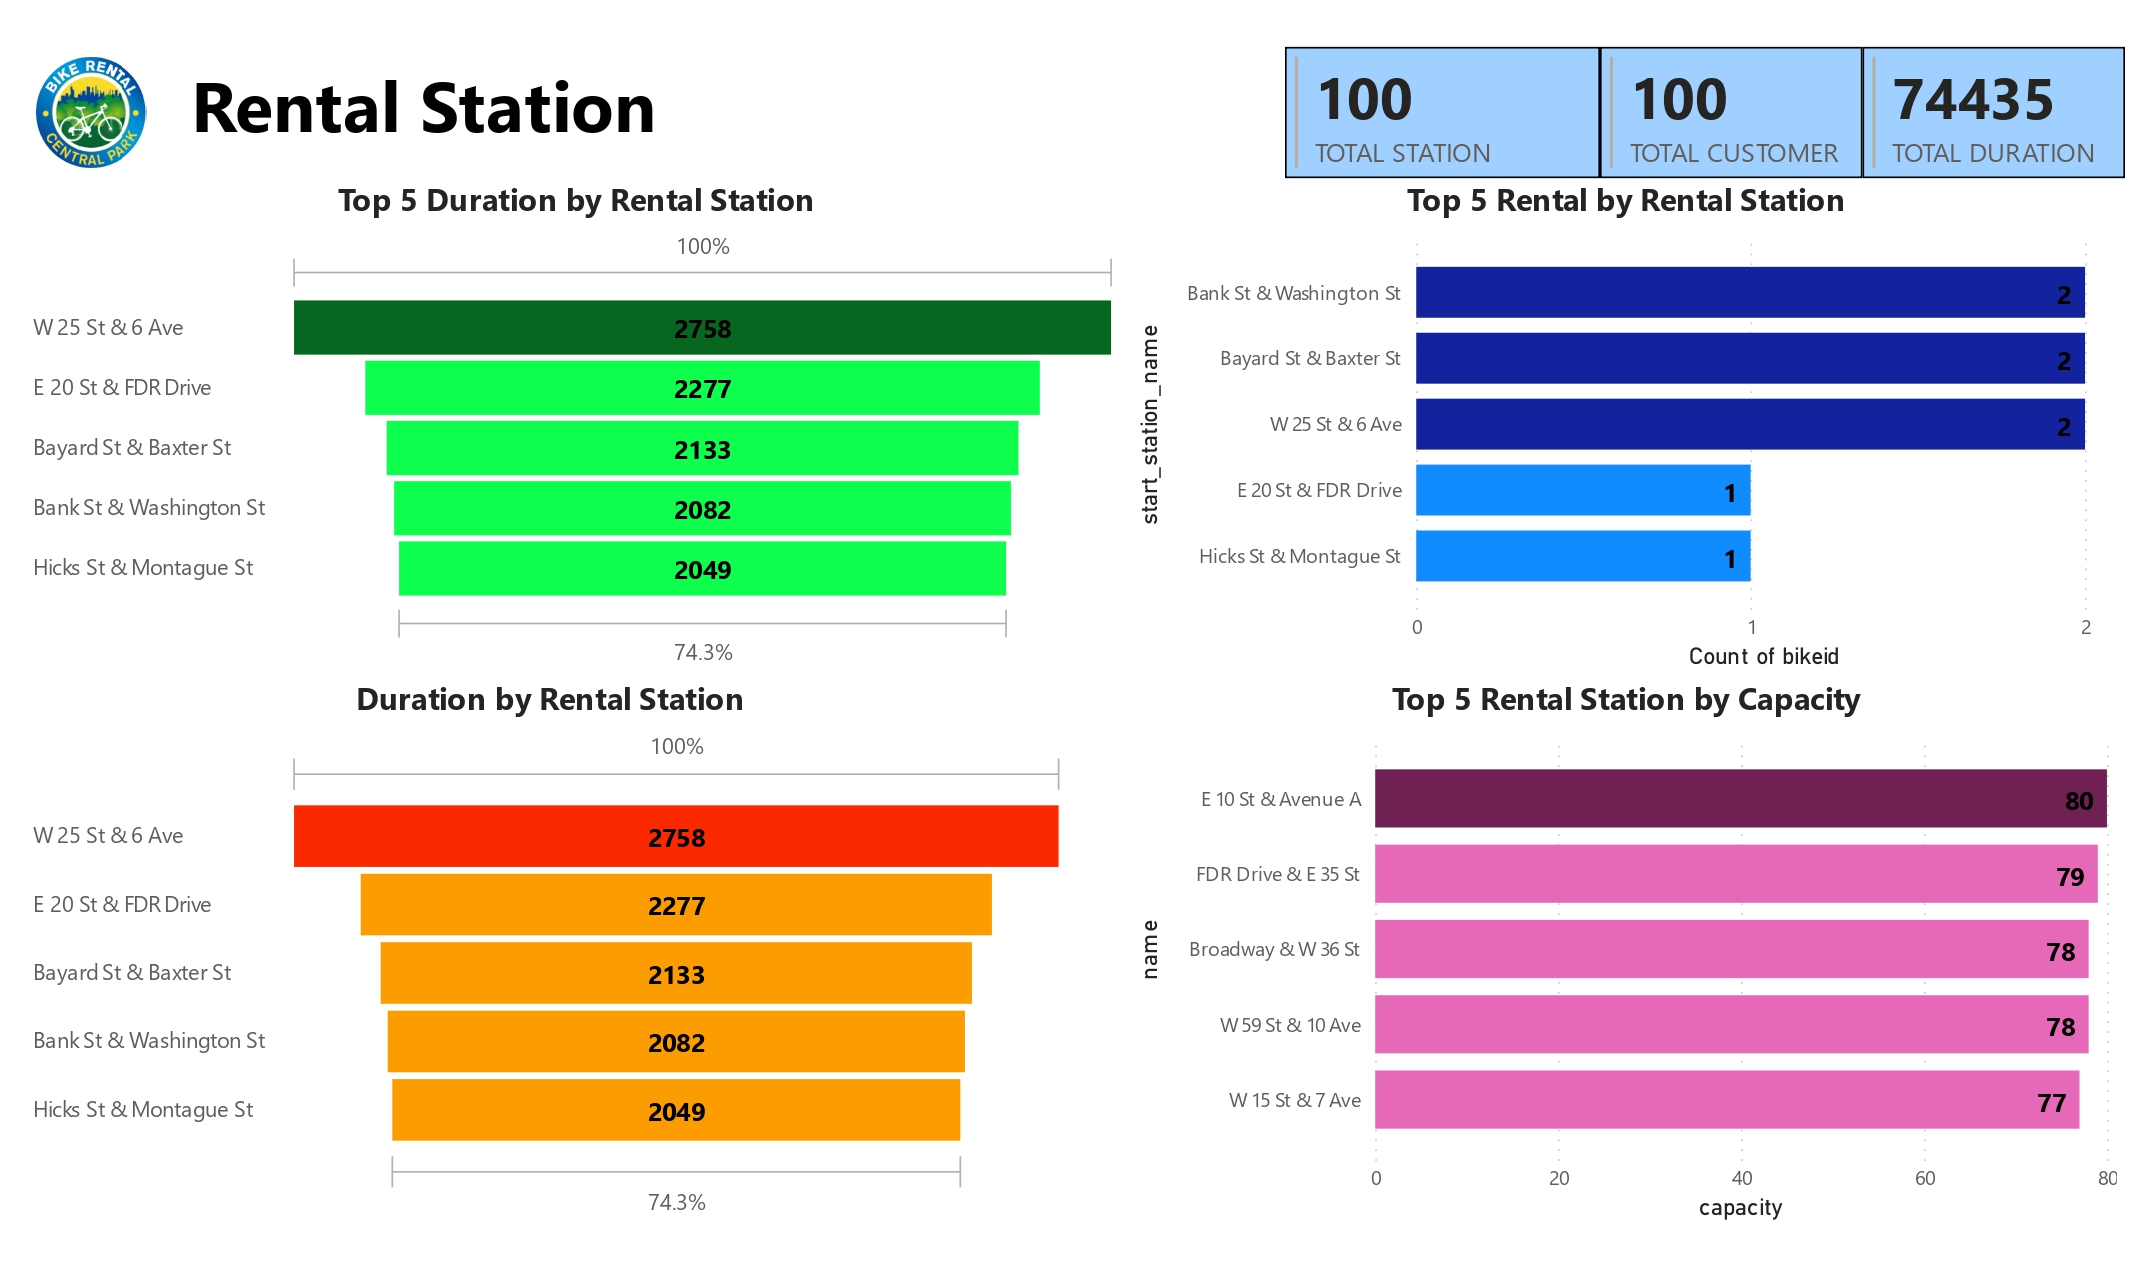

Layout of this report page (visuals, bound fields, positions):
{"tool":"powerbi","page":{"name":"Rental Station","canvas":[1280,720],"ordinal":2},"visuals":[{"type":"funnel","title":"Top 5 Duration by Rental Station","fields":{"Y":["Sum(citibike_trips.tripduration)"],"Category":["citibike_trips.start_station_name"]},"box":[0,80,672,304],"z":0},{"type":"image","box":[0,0,80,80],"z":1000},{"type":"textbox","box":[96,0,544,80],"z":2000},{"type":"funnel","title":"Duration by Rental Station","fields":{"Y":["Sum(citibike_trips.tripduration)"],"Category":["citibike_trips.start_station_name"]},"box":[0,384,640,336],"z":3000},{"type":"clusteredBarChart","title":"Top 5 Rental by Rental Station","fields":{"Category":["citibike_trips.start_station_name"],"Y":["CountNonNull(citibike_trips.bikeid)"]},"box":[672,80,608,304],"z":4000},{"type":"barChart","title":"Top 5 Rental Station by Capacity","fields":{"Category":["citibike_stations.name"],"Y":["Sum(citibike_stations.capacity)"]},"box":[672,384,608,336],"z":5000},{"type":"multiRowCard","fields":{"Values":["CountNonNull(citibike_trips.bikeid)"]},"box":[960,0,160,80],"z":6000},{"type":"multiRowCard","fields":{"Values":["Sum(citibike_trips.tripduration)"]},"box":[1120,0,160,80],"z":7000},{"type":"multiRowCard","fields":{"Values":["Count(citibike_stations.station_id)"]},"box":[768,0,192,80],"z":8000},{"type":"multiRowCard","fields":{"Values":["Sum(citibike_stations.capacity)"]},"box":[576,0,192,80],"z":9000}]}

Visuals, with their boxes on the page's 1280x720 design canvas (x1, y1, x2, y2). These are canvas units, not pixel positions in the 2150x1275 screenshot, which may show the page scaled, cropped or inside an application window:
"Top 5 Duration by Rental Station" funnel: bbox=(0, 80, 672, 384)
image: bbox=(0, 0, 80, 80)
textbox: bbox=(96, 0, 640, 80)
"Duration by Rental Station" funnel: bbox=(0, 384, 640, 720)
"Top 5 Rental by Rental Station" clusteredBarChart: bbox=(672, 80, 1280, 384)
"Top 5 Rental Station by Capacity" barChart: bbox=(672, 384, 1280, 720)
multiRowCard - CountNonNull(citibike_trips.bikeid): bbox=(960, 0, 1120, 80)
multiRowCard - Sum(citibike_trips.tripduration): bbox=(1120, 0, 1280, 80)
multiRowCard - Count(citibike_stations.station_id): bbox=(768, 0, 960, 80)
multiRowCard - Sum(citibike_stations.capacity): bbox=(576, 0, 768, 80)
